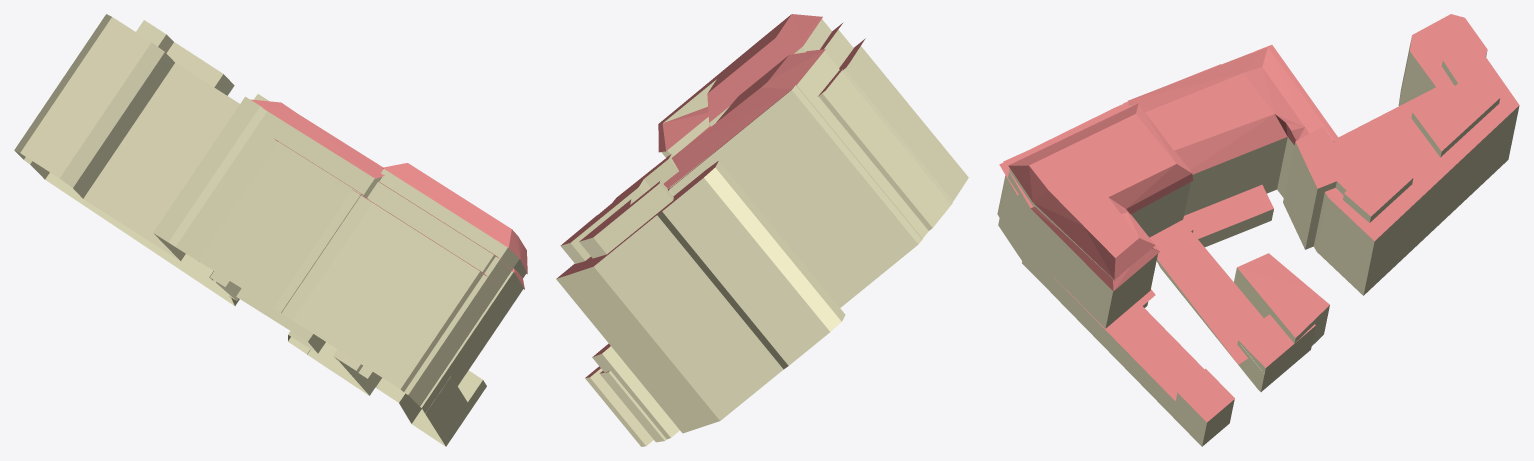
Rendered from tile_103.glb.
The picture shows the model from 3 angles, left to right: view 1: azimuth 30°, elevation 25°; view 2: azimuth 150°, elevation 25°; view 3: azimuth 270°, elevation 25°; orthographic projection. The views are drawn at different scales.
Parts seen in each view (by area): view 1: Batched_Building_ID_46991103-D647-4DFF-A2D8-947302939127; view 2: Batched_Building_ID_46991103-D647-4DFF-A2D8-947302939127; view 3: Batched_Building_ID_46991103-D647-4DFF-A2D8-947302939127.
Boxes of the visible parts, <box> form: Batched_Building_ID_46991103-D647-4DFF-A2D8-947302939127: <box>14,14,527,446</box>; Batched_Building_ID_46991103-D647-4DFF-A2D8-947302939127: <box>556,14,968,446</box>; Batched_Building_ID_46991103-D647-4DFF-A2D8-947302939127: <box>997,14,1519,446</box>.
Bounding box in the file's own units: 62.19 × 66.26 × 90.86.
